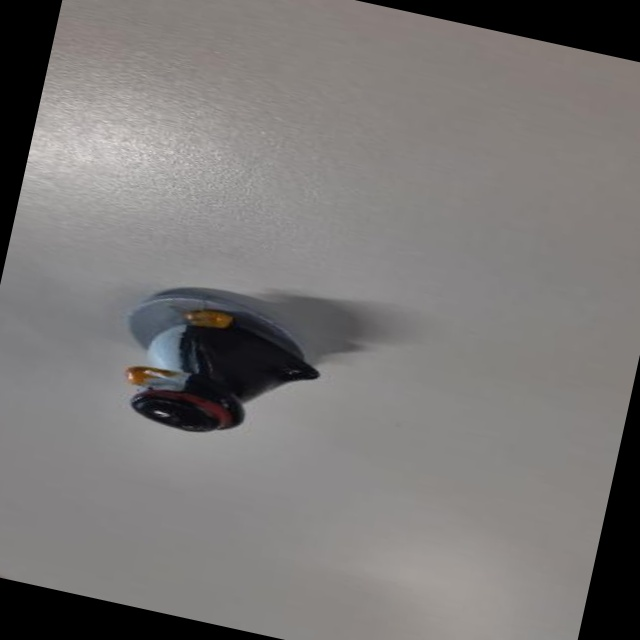Penguin: (89, 269, 343, 459)
